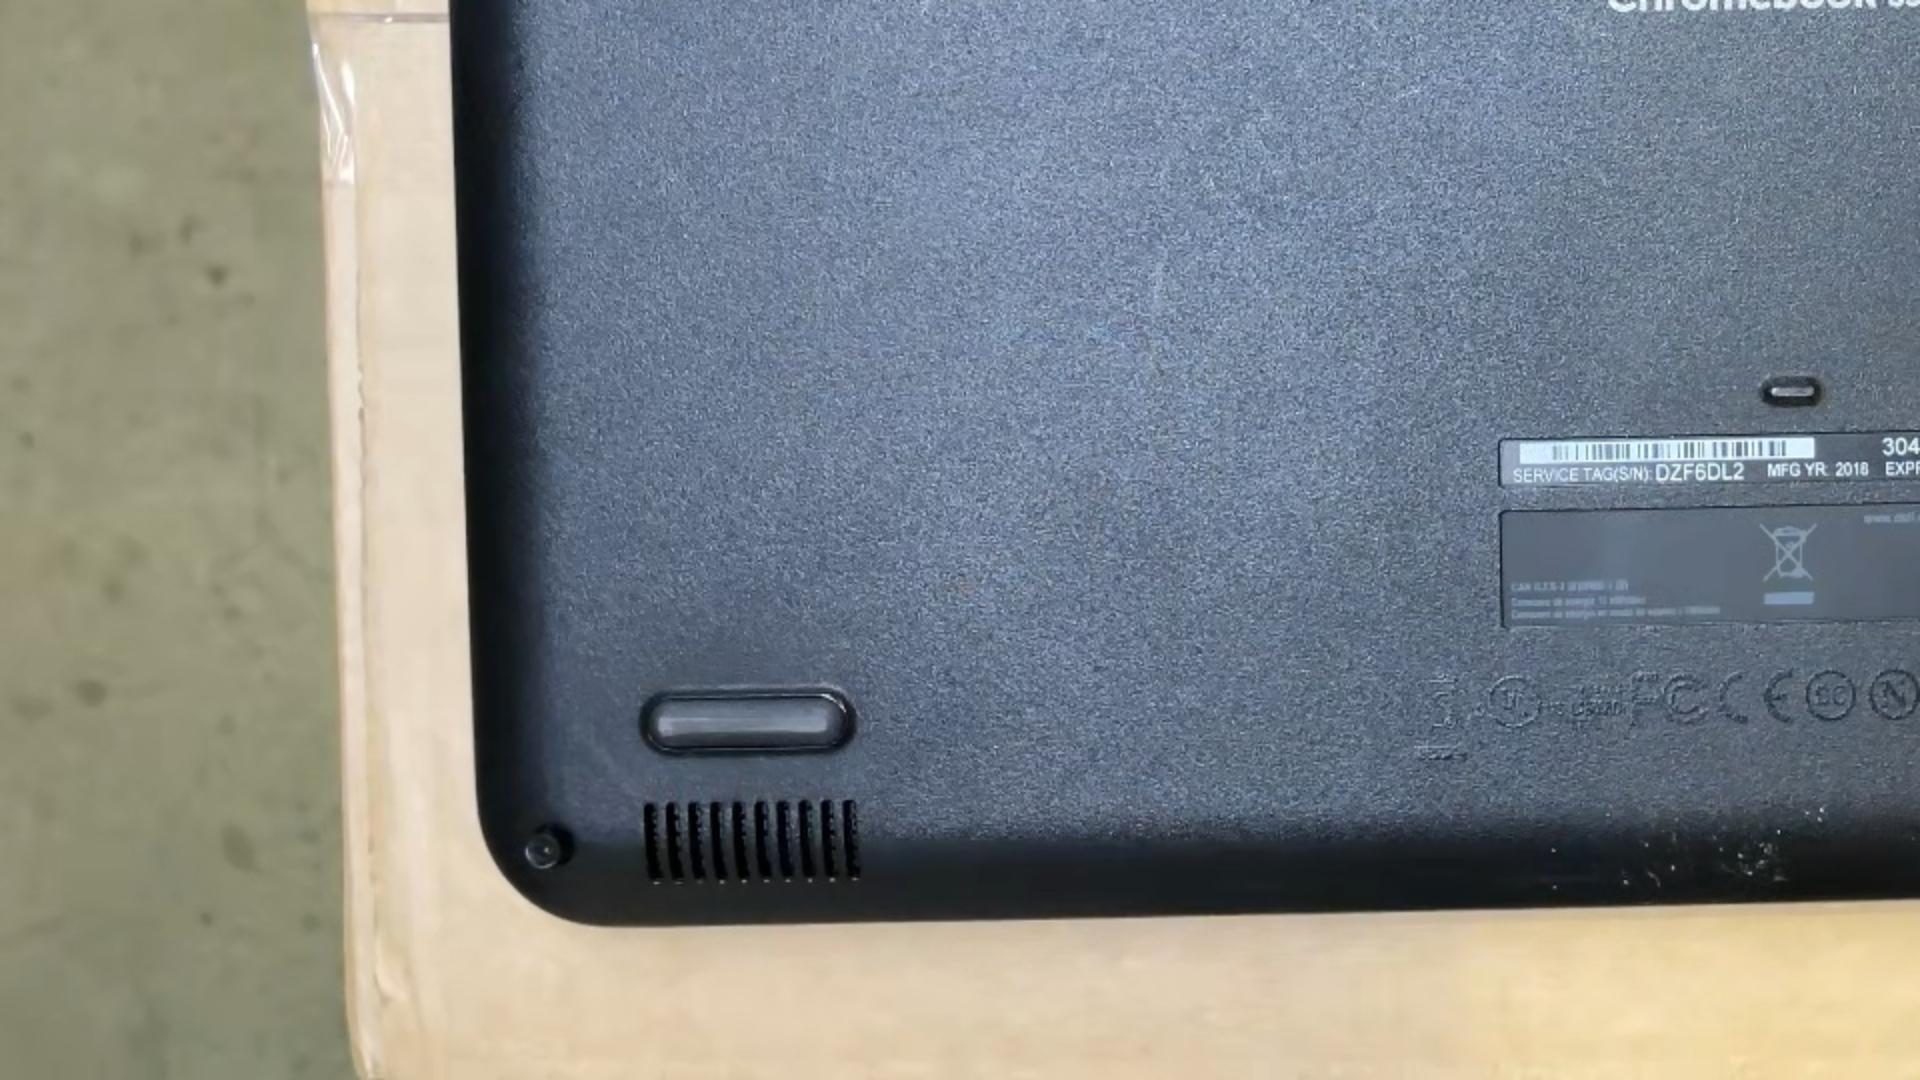chip: (1816, 806, 1828, 824), (1759, 844, 1775, 855), (1755, 858, 1768, 869), (1735, 852, 1746, 861), (1743, 869, 1755, 877), (1549, 845, 1559, 855), (1621, 878, 1631, 886), (1668, 865, 1676, 873), (1775, 828, 1782, 836), (1919, 799, 1920, 811)
scratches: (808, 0, 853, 319), (1147, 248, 1168, 323), (1389, 86, 1420, 102), (916, 0, 935, 18), (1646, 869, 1662, 889)
